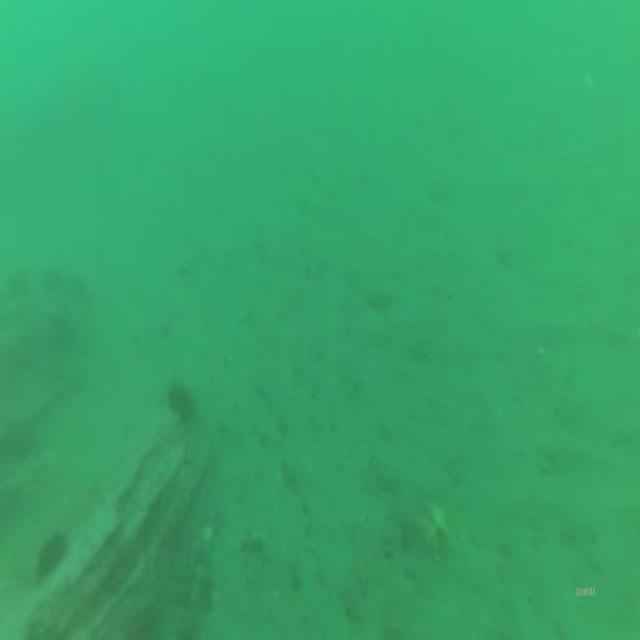echinus: (31, 530, 69, 582), (0, 418, 39, 464), (164, 375, 196, 428), (4, 262, 32, 308), (65, 275, 91, 308), (38, 264, 65, 295)
